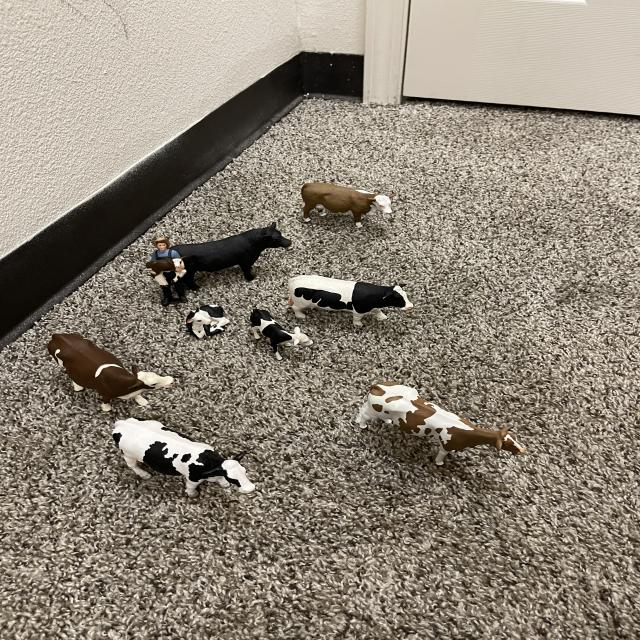cow: (351, 374, 532, 492), (99, 406, 264, 523), (32, 324, 175, 433), (169, 214, 298, 300), (284, 272, 416, 332), (238, 299, 314, 370), (298, 181, 396, 233), (181, 297, 233, 347), (145, 255, 183, 276)
person: (149, 236, 182, 261)
